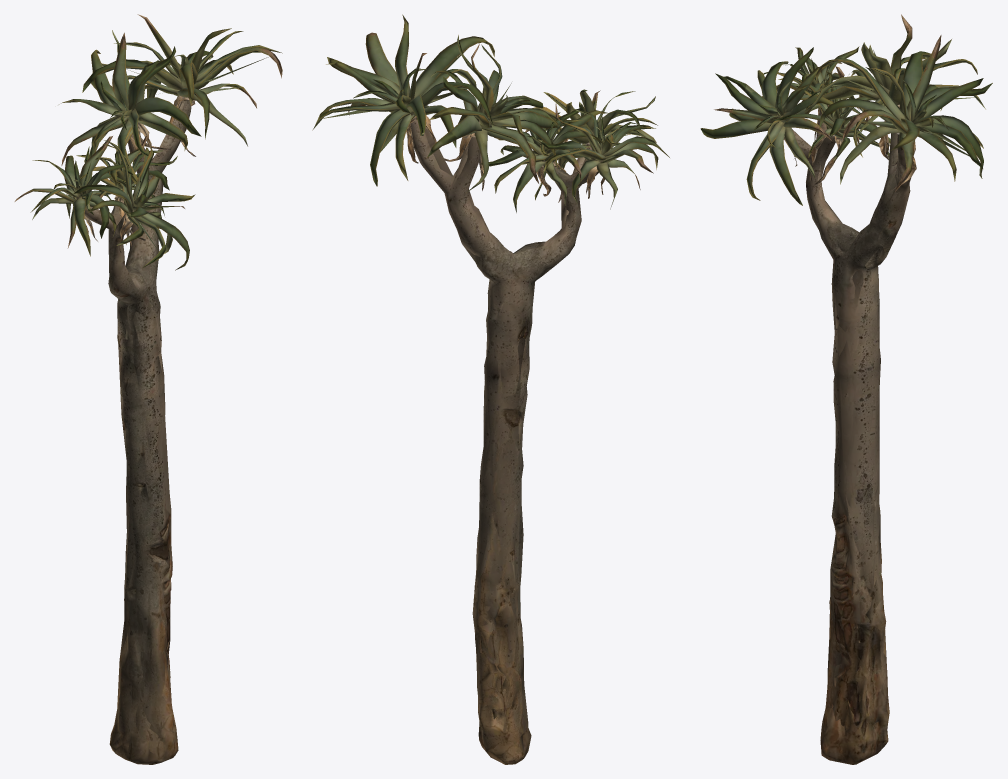
The model's file is quiver_tree_01.glb.
The picture shows the model from 3 angles, left to right: view 1: azimuth 30°, elevation 25°; view 2: azimuth 150°, elevation 25°; view 3: azimuth 270°, elevation 25°; orthographic projection. The views are drawn at different scales.
Visible parts, largest first — view 1: quiver_tree_01 (×2); view 2: quiver_tree_01 (×2); view 3: quiver_tree_01 (×2).
Part boxes in pixels (x1,y1,x2,y2): quiver_tree_01 (×2): (14,14,282,764); quiver_tree_01 (×2): (312,14,669,764); quiver_tree_01 (×2): (700,14,992,764).
Size of the model in its own units: 1.18 by 2.72 by 0.9673.
Materials: 2 (2 with a texture image).
